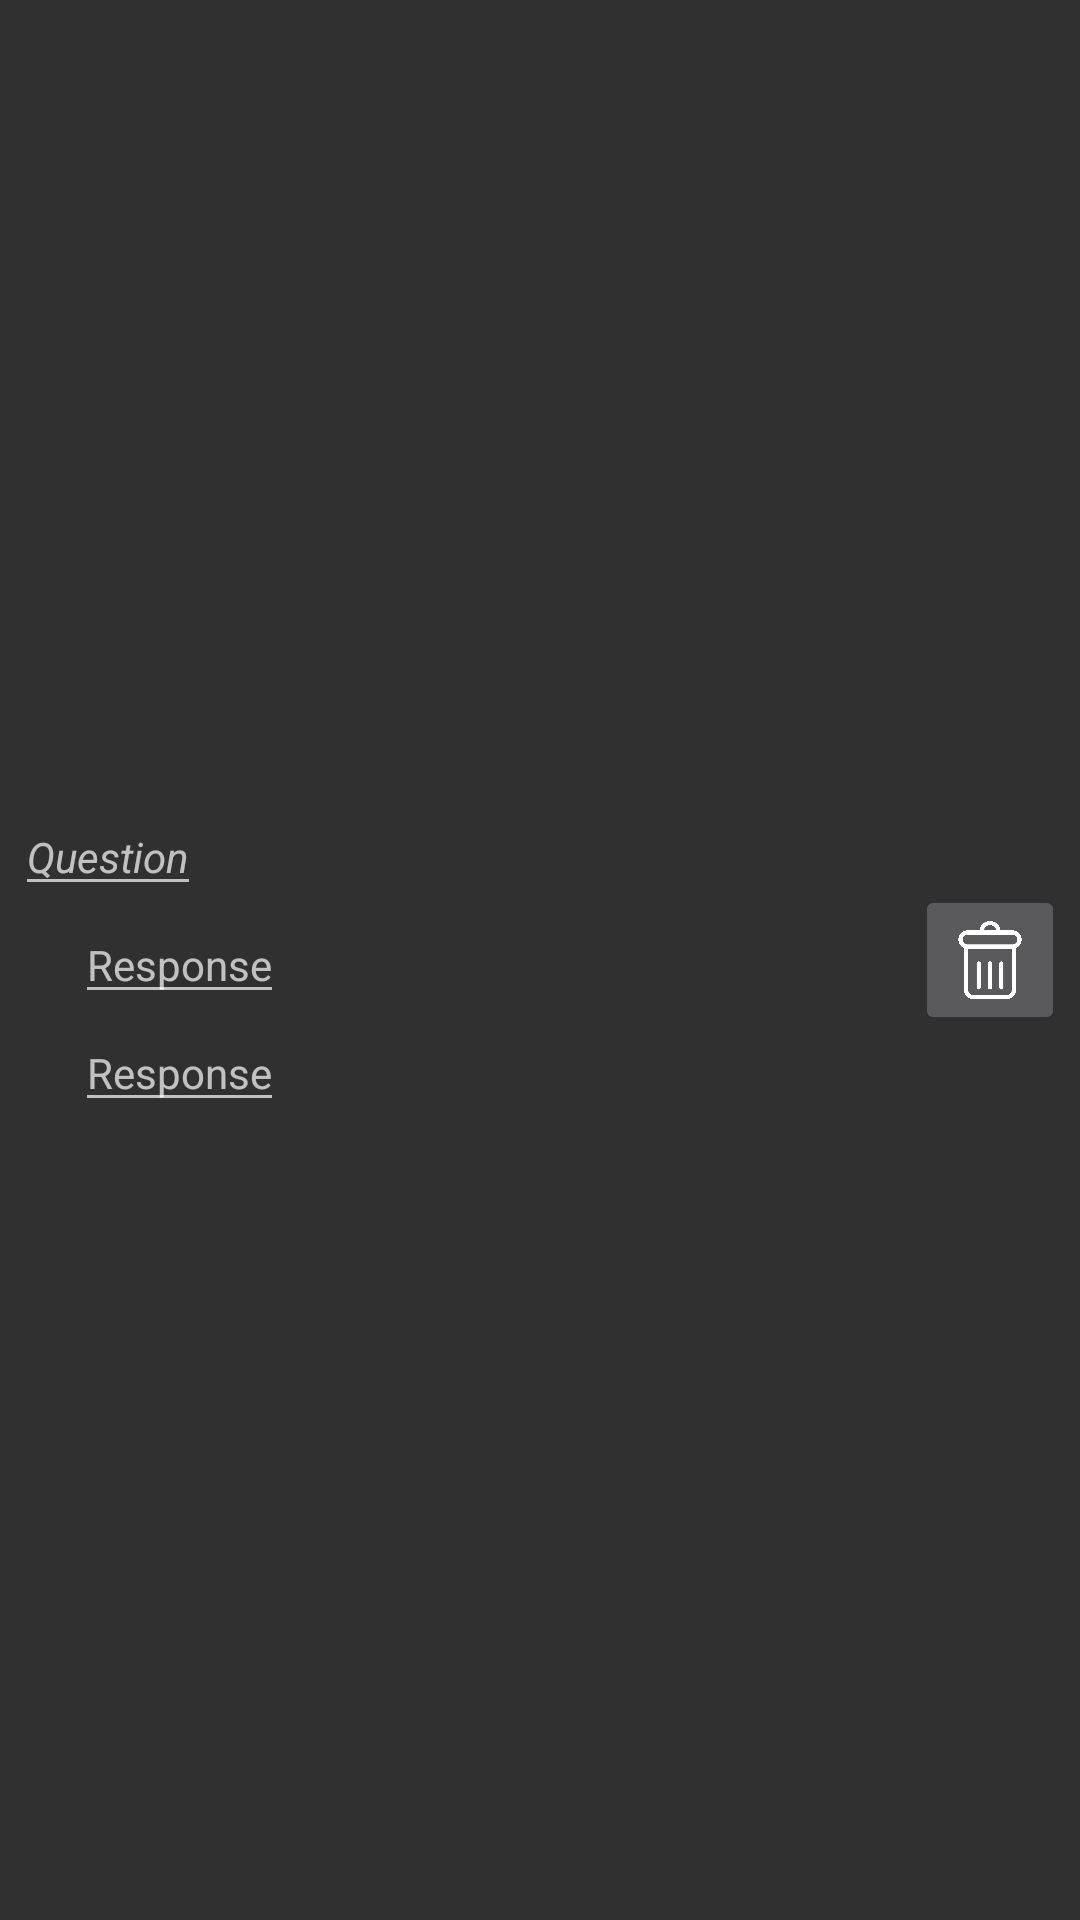

Locate icon controls on the screen. Image size 1080*1920, boxes as bbox=(x1, y1, x2, y2).
delete: bbox=(927, 903, 1053, 1017)
